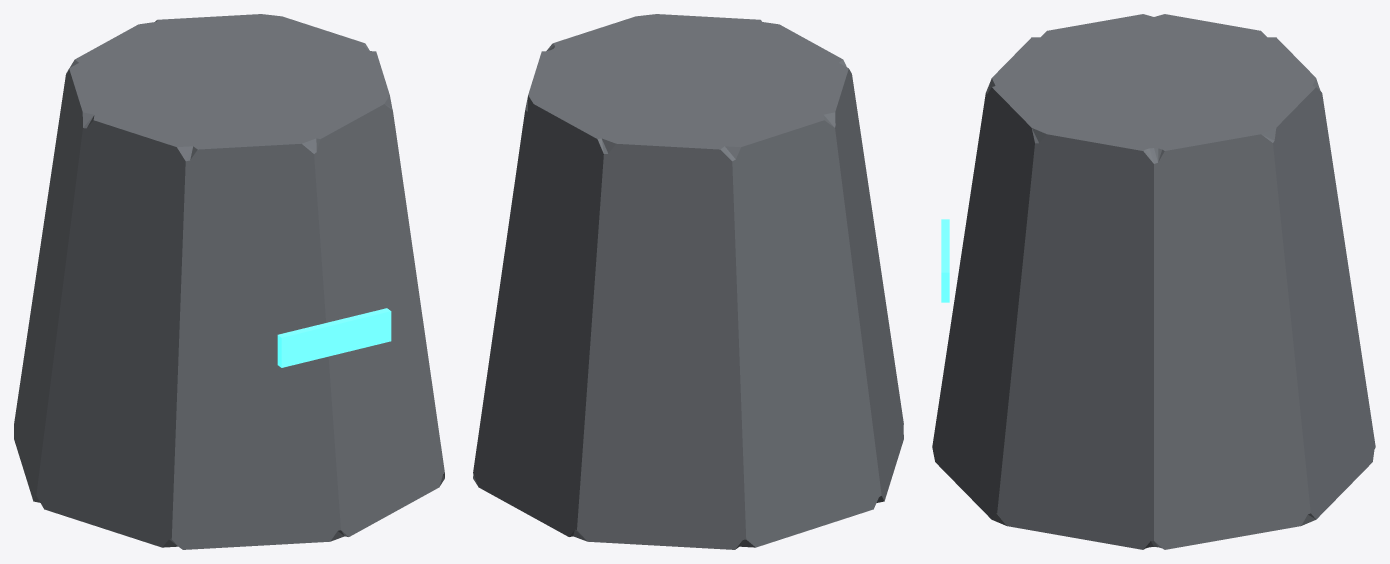
Rendered from wind_boulder_visual.glb.
3 renders of one model, left to right at view 1: azimuth 30°, elevation 25°; view 2: azimuth 150°, elevation 25°; view 3: azimuth 270°, elevation 25°, orthographic.
Visible parts, largest first — view 1: wind_boulder_visual_Static, WindMark; view 2: wind_boulder_visual_Static; view 3: wind_boulder_visual_Static, WindMark.
Part boxes in pixels (x1,y1,x2,y2): wind_boulder_visual_Static: (14, 14, 444, 549); WindMark: (277, 308, 391, 367); wind_boulder_visual_Static: (473, 14, 903, 549); wind_boulder_visual_Static: (932, 14, 1375, 549); WindMark: (941, 219, 949, 302).
Bounding box in the file's own units: 1.34 × 1.25 × 1.34.
